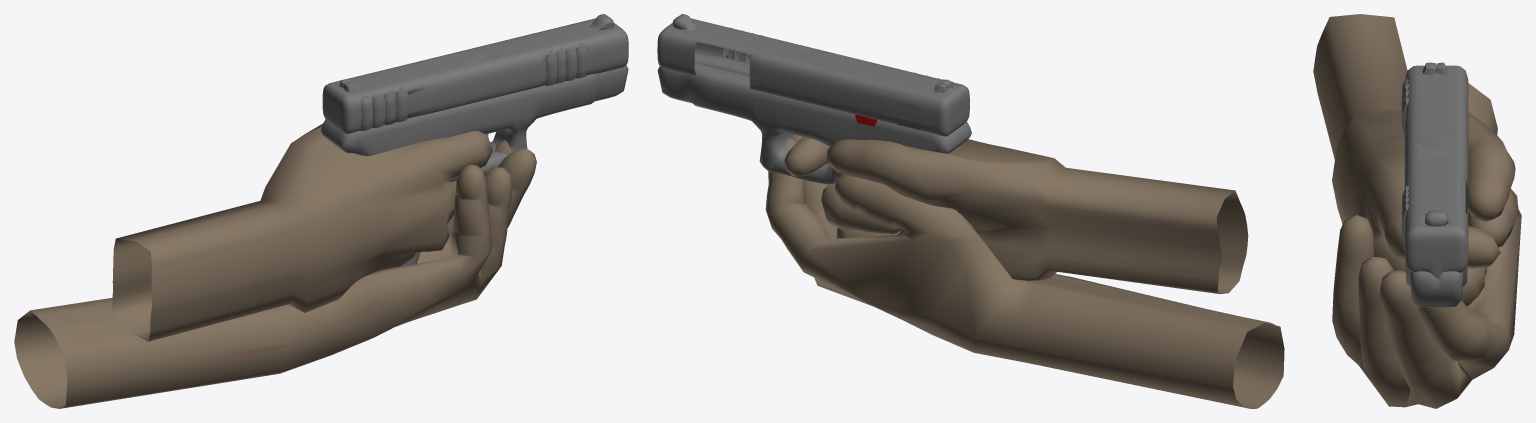
The model's file is fp_hands_outline.glb.
3 views of the same model, side by side, from view 1: azimuth 30°, elevation 25°; view 2: azimuth 150°, elevation 25°; view 3: azimuth 270°, elevation 25° (orthographic). The views are drawn at different scales.
Parts seen in each view (by area): view 1: Outline; view 2: Outline; view 3: Outline.
Boxes of the visible parts, x1,y1,x2,y2 form: Outline: (14,14,628,408); Outline: (657,14,1284,408); Outline: (1313,14,1521,408).
Size of the model in its own units: 7.67 by 3.27 by 1.97.
Materials: 1 (1 with a texture image).
